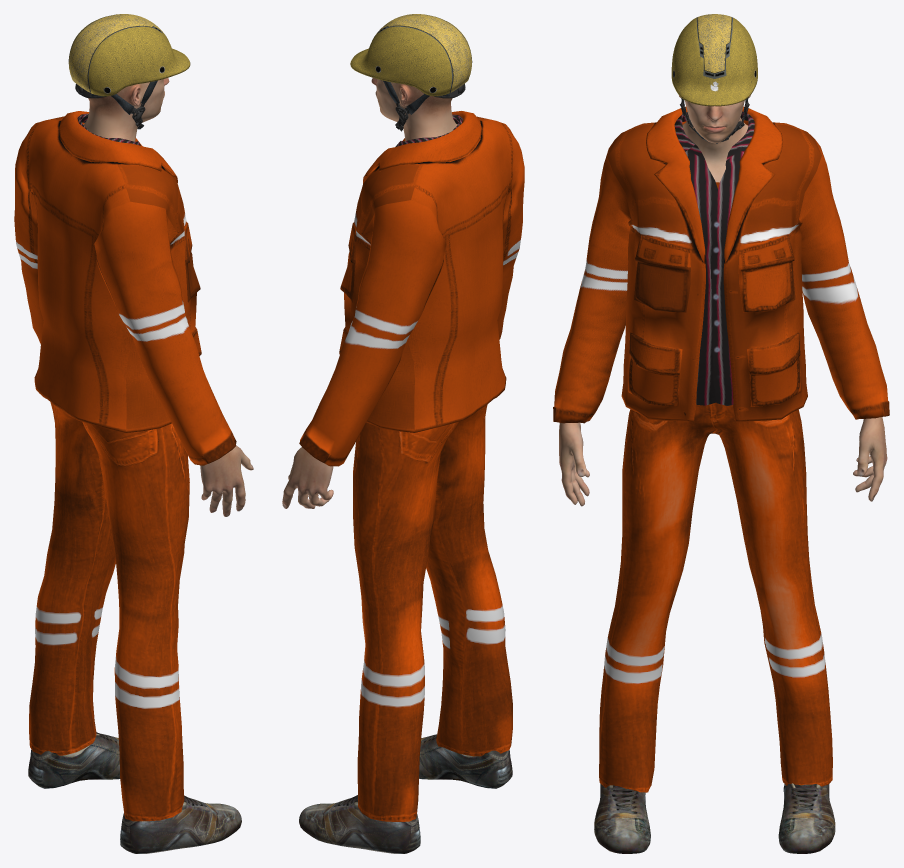
Rendered from jeff_electrician.dae.
3 views of the same model, side by side, from view 1: azimuth 30°, elevation 25°; view 2: azimuth 150°, elevation 25°; view 3: azimuth 270°, elevation 25° (orthographic).
Parts seen in each view (by area): view 1: jeff_w-male_casualsuit05, jeff_w-riding_helmet, jeff_w-shoes02, jeff_w-base; view 2: jeff_w-male_casualsuit05, jeff_w-riding_helmet, jeff_w-shoes02, jeff_w-base; view 3: jeff_w-male_casualsuit05, jeff_w-riding_helmet, jeff_w-base, jeff_w-shoes02.
Boxes of the visible parts, <box> form: jeff_w-male_casualsuit05: <box>14,111,236,821</box>; jeff_w-riding_helmet: <box>68,14,190,129</box>; jeff_w-shoes02: <box>28,732,241,853</box>; jeff_w-base: <box>83,78,253,516</box>; jeff_w-male_casualsuit05: <box>299,111,524,821</box>; jeff_w-riding_helmet: <box>350,14,472,131</box>; jeff_w-shoes02: <box>299,734,512,853</box>; jeff_w-base: <box>282,78,457,508</box>; jeff_w-male_casualsuit05: <box>553,106,889,792</box>; jeff_w-riding_helmet: <box>671,14,757,143</box>; jeff_w-base: <box>559,95,887,506</box>; jeff_w-shoes02: <box>594,783,835,853</box>.
Size of the model in its own units: 0.437 by 0.8895 by 2.34.
Materials: 6 (6 with a texture image).
